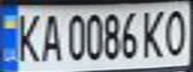0: (84, 10, 106, 62), (63, 10, 84, 62)
6: (118, 8, 142, 60)
8: (103, 10, 124, 61)
A: (36, 10, 63, 63)
K: (9, 9, 45, 63), (139, 7, 169, 60)
O: (160, 6, 193, 57)
